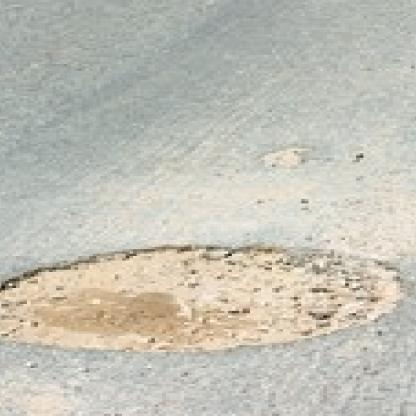pothole: (0, 245, 411, 352), (261, 142, 309, 171)
